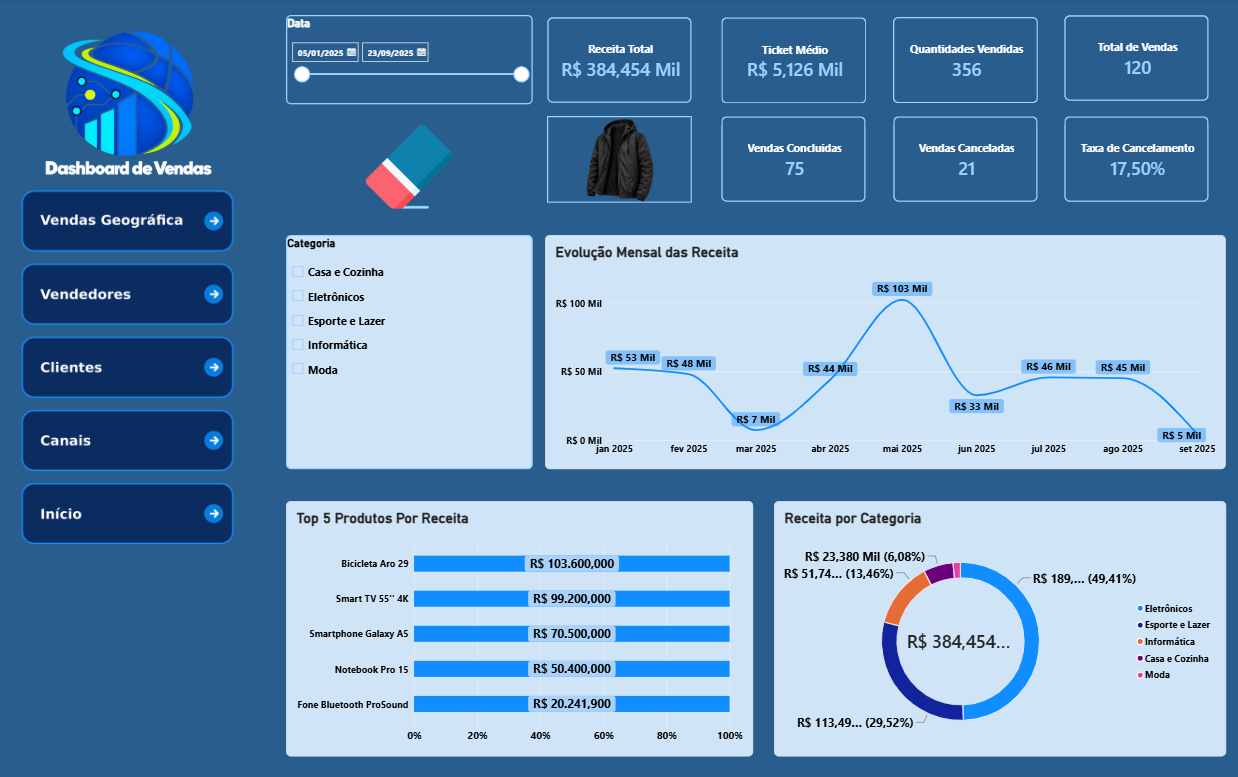

The dashboard page shown, as its layout file describes it:
{"tool":"powerbi","page":{"name":"Visão_Financeira","canvas":[2000,1300],"ordinal":1},"visuals":[{"type":"cardVisual","fields":{"Data":["FATO_VENDAS.Vendas_Concluidas"]},"box":[1160.3,189.7,232,138.9],"z":0},{"type":"cardVisual","fields":{"Data":["FATO_VENDAS.Ticket_Médio"]},"box":[1160.3,31,232,138.9],"z":1000},{"type":"cardVisual","fields":{"Data":["FATO_VENDAS.Quantidades Vendidas"]},"box":[1436.2,31,232,138.9],"z":2000},{"type":"cardVisual","fields":{"Data":["FATO_VENDAS.Receita_Total"]},"box":[882.8,31,232,138.9],"z":3000},{"type":"cardVisual","fields":{"Data":["FATO_VENDAS.Total_Vendas"]},"box":[1710.3,27.6,232,138.9],"z":4000},{"type":"cardVisual","fields":{"Data":["FATO_VENDAS.Taxa_Cancelamento"]},"box":[1710.3,189.7,232,138.9],"z":5000},{"type":"cardVisual","fields":{"Data":["FATO_VENDAS.Vendas_Canceladas"]},"box":[1436.2,189.7,232,138.9],"z":6000},{"type":"lineChart","title":"Evolução Mensal das Receita","fields":{"Category":["FATO_VENDAS.Data_Venda.Variation.Hierarquia de datas.Ano","FATO_VENDAS.Data_Venda.Variation.Hierarquia de datas.Mês"],"Y":["FATO_VENDAS.Receita_Total"]},"box":[878.9,379.4,1090.3,374.6],"z":7000},{"type":"hundredPercentStackedBarChart","title":"Top 5 Produtos Por Receita","fields":{"Category":["Dim_Produtos.Produto"],"Y":["FATO_VENDAS.Receita_Total"]},"box":[464.3,805.3,748.3,408.6],"z":8000},{"type":"donutChart","title":"Receita por Categoria","fields":{"Category":["Dim_Produtos.Categoria"],"Y":["FATO_VENDAS.Receita_Total"]},"box":[1245.6,805.3,724.1,409.4],"z":9000},{"type":"image","title":"Produto","box":[882.8,189.7,232,138.9],"z":10000},{"type":"image","box":[556.6,199.7,210,140],"z":11000},{"type":"slicer","title":"Categoria","fields":{"Values":["Dim_Produtos.Categoria"]},"box":[464.3,379.4,395.4,374.6],"z":12000},{"type":"slicer","title":"Data","fields":{"Values":["FATO_VENDAS.Data_Venda"]},"box":[463.8,27.6,394.8,143.1],"z":13000},{"type":"image","box":[31,270.7,360.3,641.4],"z":14000},{"type":"actionButton","box":[42.5,308.7,337.1,94.9],"z":15000},{"type":"actionButton","box":[42.5,423.5,337.1,102],"z":16000},{"type":"actionButton","box":[42.5,542.4,337.1,99.1],"z":17000},{"type":"actionButton","box":[42.5,657.1,337.1,97.7],"z":18000},{"type":"actionButton","box":[42.5,774.7,337.1,96.3],"z":19000},{"type":"image","box":[0,22.7,422,286.1],"z":20000}]}

Visuals, with their boxes on the page's 2000x1300 design canvas (x1, y1, x2, y2). These are canvas units, not pixel positions in the 1238x777 screenshot, which may show the page scaled, cropped or inside an application window:
cardVisual - FATO_VENDAS.Vendas_Concluidas: [x1=1160, y1=190, x2=1392, y2=329]
cardVisual - FATO_VENDAS.Ticket_Médio: [x1=1160, y1=31, x2=1392, y2=170]
cardVisual - FATO_VENDAS.Quantidades Vendidas: [x1=1436, y1=31, x2=1668, y2=170]
cardVisual - FATO_VENDAS.Receita_Total: [x1=883, y1=31, x2=1115, y2=170]
cardVisual - FATO_VENDAS.Total_Vendas: [x1=1710, y1=28, x2=1942, y2=166]
cardVisual - FATO_VENDAS.Taxa_Cancelamento: [x1=1710, y1=190, x2=1942, y2=329]
cardVisual - FATO_VENDAS.Vendas_Canceladas: [x1=1436, y1=190, x2=1668, y2=329]
"Evolução Mensal das Receita" lineChart: [x1=879, y1=379, x2=1969, y2=754]
"Top 5 Produtos Por Receita" hundredPercentStackedBarChart: [x1=464, y1=805, x2=1213, y2=1214]
"Receita por Categoria" donutChart: [x1=1246, y1=805, x2=1970, y2=1215]
"Produto" image: [x1=883, y1=190, x2=1115, y2=329]
image: [x1=557, y1=200, x2=767, y2=340]
"Categoria" slicer: [x1=464, y1=379, x2=860, y2=754]
"Data" slicer: [x1=464, y1=28, x2=859, y2=171]
image: [x1=31, y1=271, x2=391, y2=912]
actionButton: [x1=42, y1=309, x2=380, y2=404]
actionButton: [x1=42, y1=424, x2=380, y2=526]
actionButton: [x1=42, y1=542, x2=380, y2=642]
actionButton: [x1=42, y1=657, x2=380, y2=755]
actionButton: [x1=42, y1=775, x2=380, y2=871]
image: [x1=0, y1=23, x2=422, y2=309]
